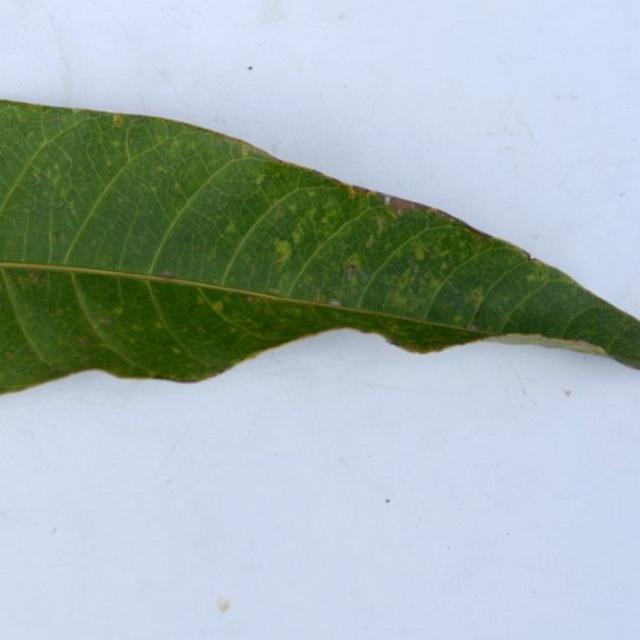Mango: (0, 100, 639, 392)
Powdery_Mildew: (21, 133, 111, 230), (265, 233, 300, 272), (550, 338, 609, 357), (492, 332, 551, 348), (386, 195, 426, 215), (342, 251, 366, 279), (465, 221, 499, 239), (14, 271, 45, 290), (395, 269, 416, 294), (307, 283, 329, 302), (344, 263, 358, 284), (290, 226, 305, 245), (469, 286, 484, 303), (53, 231, 68, 246), (570, 338, 592, 348), (413, 246, 427, 261), (224, 220, 239, 234), (238, 144, 253, 158), (411, 263, 421, 283), (365, 232, 376, 249), (346, 184, 359, 198), (375, 215, 385, 232), (382, 336, 399, 346), (211, 300, 224, 313), (525, 271, 539, 283), (254, 173, 266, 186), (451, 314, 464, 325), (77, 336, 91, 346), (98, 318, 112, 327), (111, 306, 123, 316), (287, 203, 299, 213), (131, 326, 144, 335), (161, 270, 175, 278), (320, 216, 330, 226), (4, 351, 15, 360), (329, 299, 341, 307), (528, 257, 541, 264), (154, 321, 164, 330), (524, 251, 533, 261), (113, 114, 121, 125), (172, 184, 181, 193), (111, 140, 121, 148), (172, 347, 182, 355), (29, 271, 37, 280), (384, 196, 391, 205), (245, 295, 253, 302), (396, 209, 402, 216)
